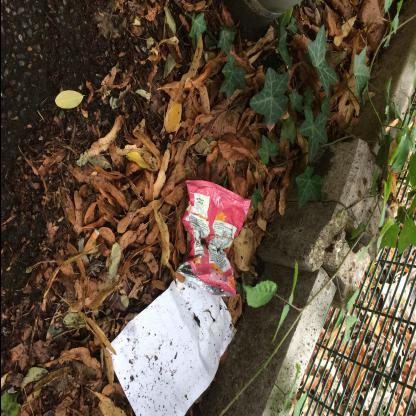kagit: (103, 271, 235, 415)
plastik: (175, 177, 250, 298)
